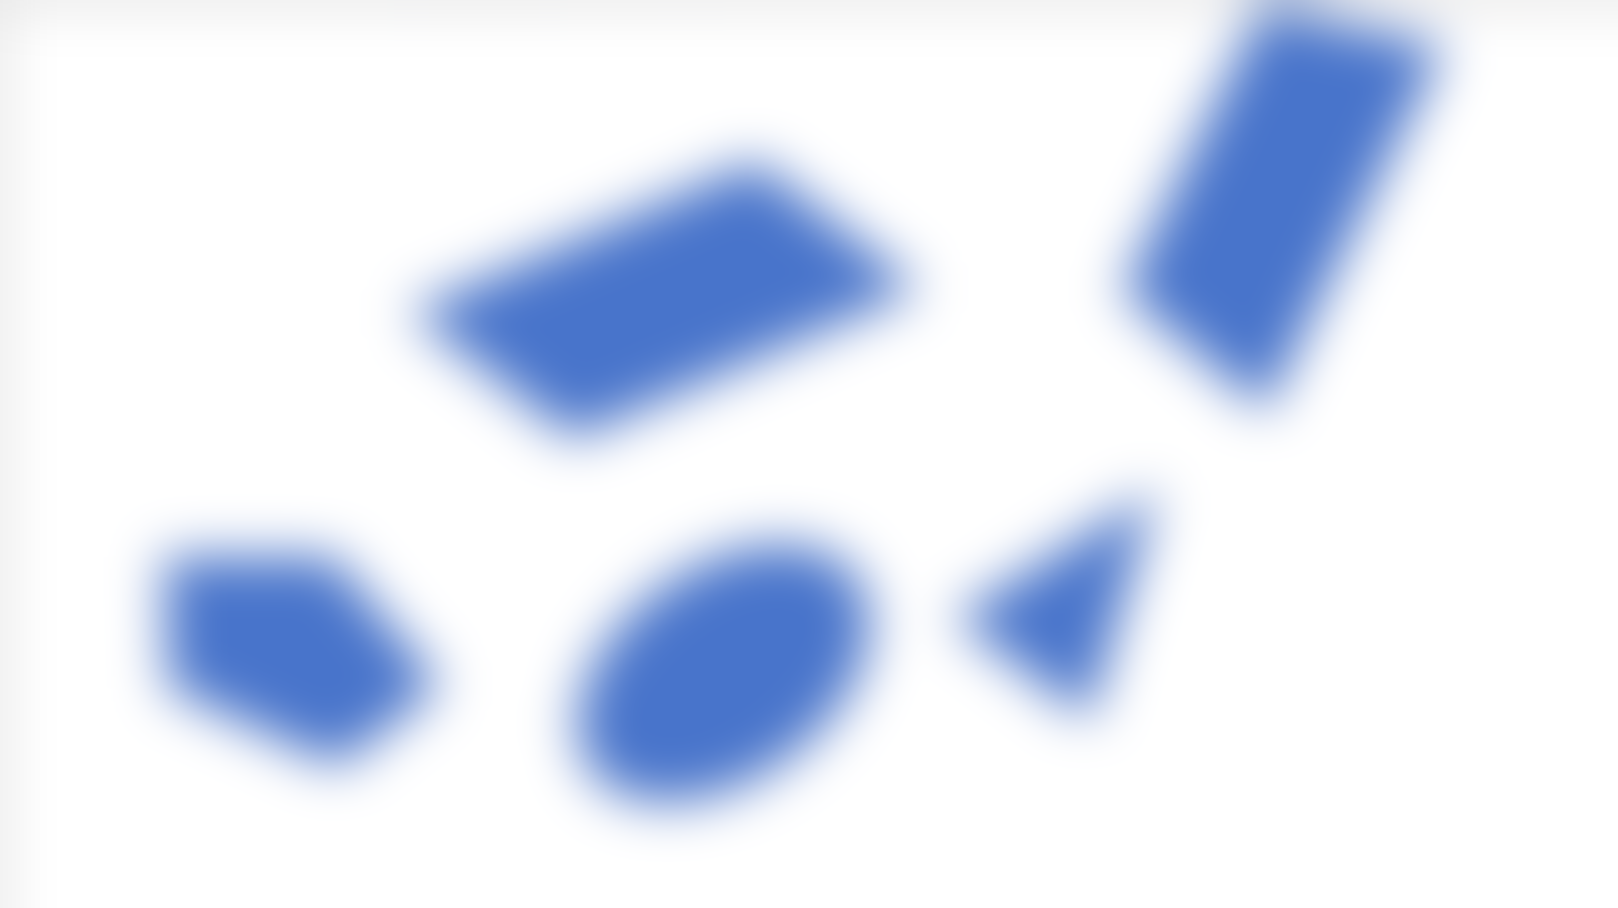circle: (542, 523, 895, 832)
parallelogram: (404, 148, 921, 453)
trapezium: (1065, 7, 1518, 449), (121, 517, 443, 769)
triangle: (973, 477, 1146, 714)
